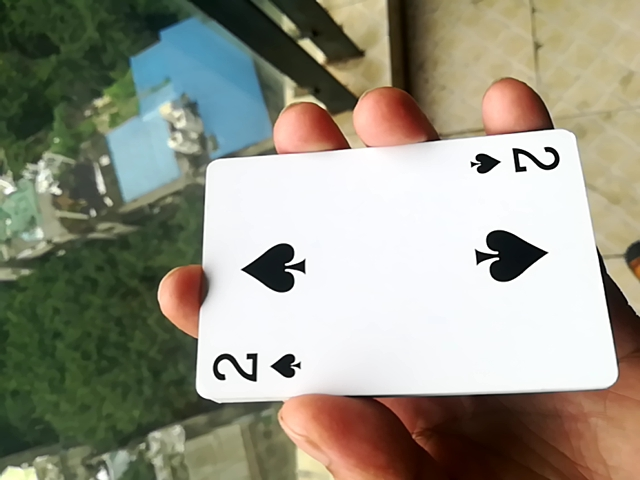ht 2: (187, 133, 614, 407)
